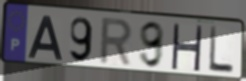9: (136, 20, 167, 70), (68, 16, 94, 64)
A: (26, 14, 64, 62)
H: (169, 22, 204, 73)
L: (207, 25, 235, 75)
R: (97, 17, 135, 69)
